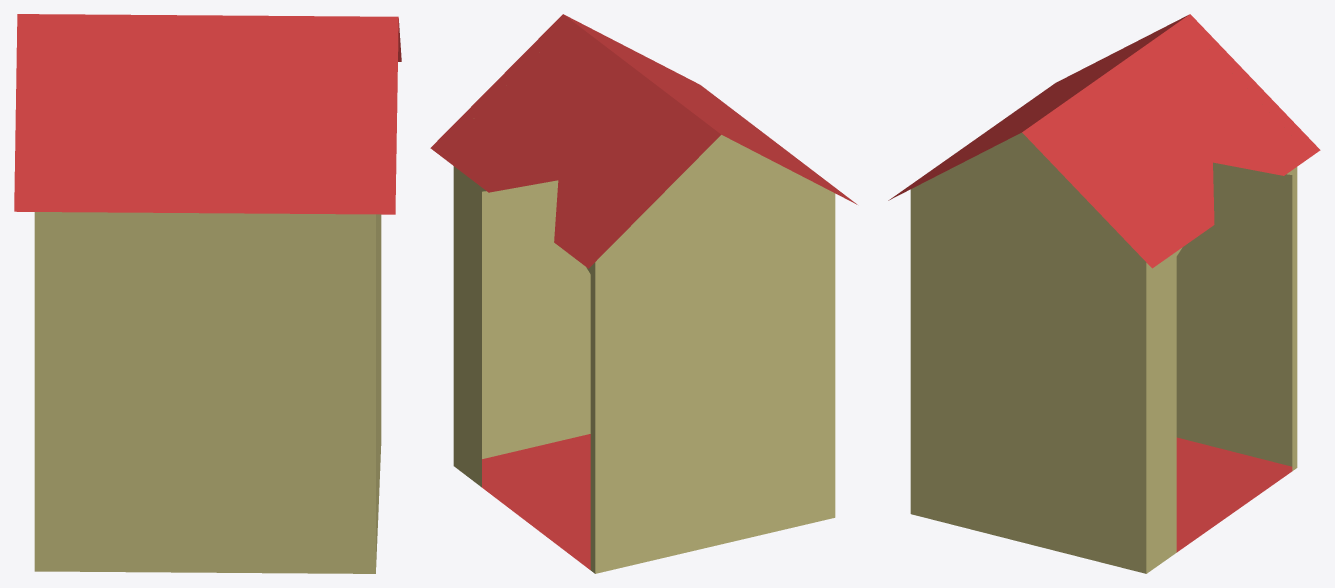
The picture shows the model from 3 angles, left to right: view 1: azimuth 30°, elevation 25°; view 2: azimuth 150°, elevation 25°; view 3: azimuth 270°, elevation 25°; orthographic projection. The views are drawn at different scales.
Bounding box in the file's own units: 12.82 × 12.64 × 13.47.
